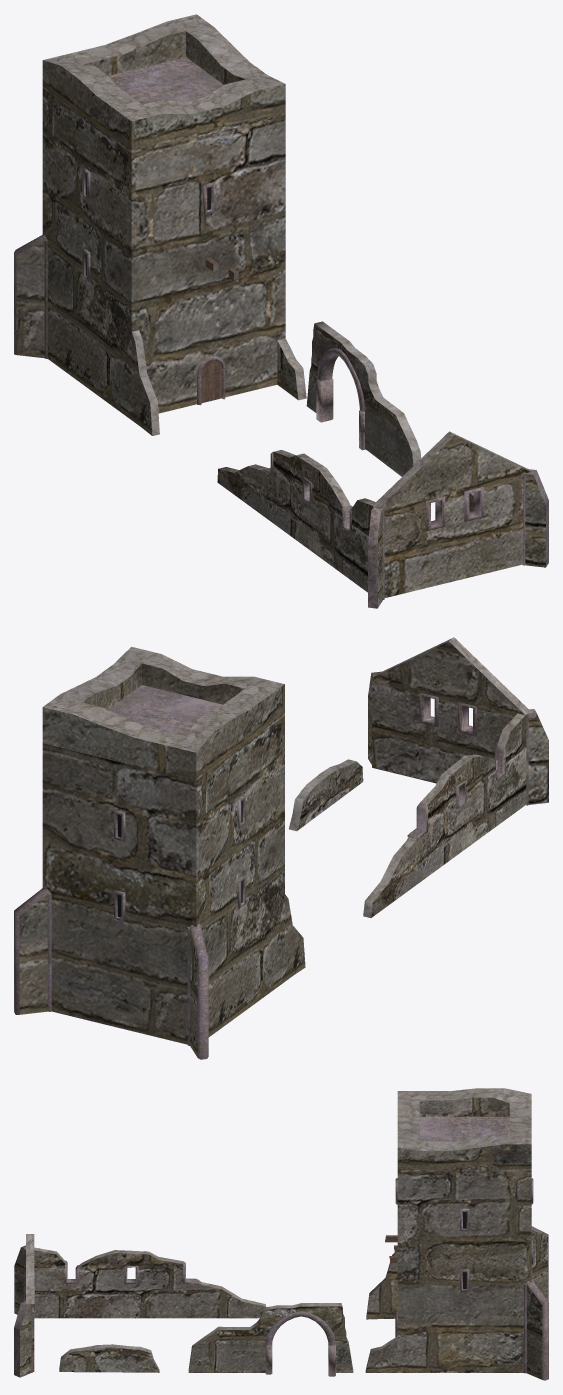
Rendered from ruined church.fbx.
3 views of the same model, one above another, from view 1: azimuth 30°, elevation 25°; view 2: azimuth 150°, elevation 25°; view 3: azimuth 270°, elevation 25° (orthographic). The views are drawn at different scales.
Visible parts, largest first — view 1: tower, stone walls, broken stone, renderz, church tower door; view 2: tower, stone walls, broken stone, renderz; view 3: tower, stone walls, broken stone, renderz.
Boxes of the visible parts, x1=… form: tower: x1=16, y1=31, x2=298, y2=435; stone walls: x1=217, y1=323, x2=545, y2=607; broken stone: x1=43, y1=14, x2=530, y2=509; renderz: x1=14, y1=57, x2=548, y2=608; church tower door: x1=148, y1=258, x2=238, y2=402; tower: x1=19, y1=663, x2=305, y2=1057; stone walls: x1=297, y1=641, x2=548, y2=917; broken stone: x1=43, y1=637, x2=530, y2=917; renderz: x1=14, y1=671, x2=536, y2=1059; tower: x1=366, y1=1097, x2=547, y2=1379; stone walls: x1=14, y1=1247, x2=352, y2=1377; broken stone: x1=26, y1=1088, x2=531, y2=1372; renderz: x1=14, y1=1116, x2=548, y2=1380.
Size of the model in its own units: 1374 by 2084 by 4366.
Materials: 6 (6 with a texture image).
